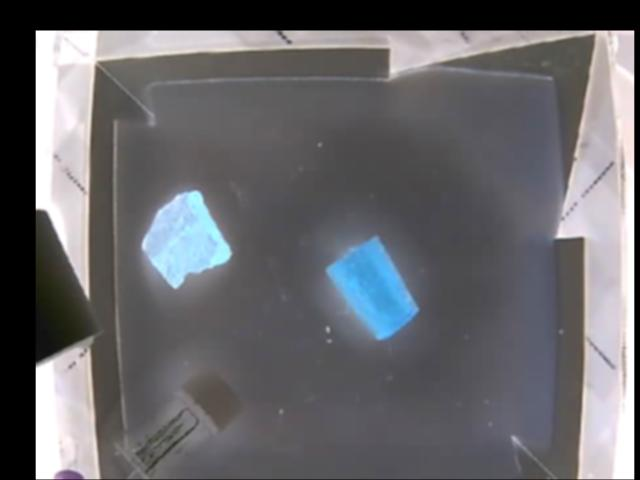Bottle: (119, 368, 247, 478)
Brisk: (141, 190, 233, 291)
Carrot: (324, 232, 417, 340)
